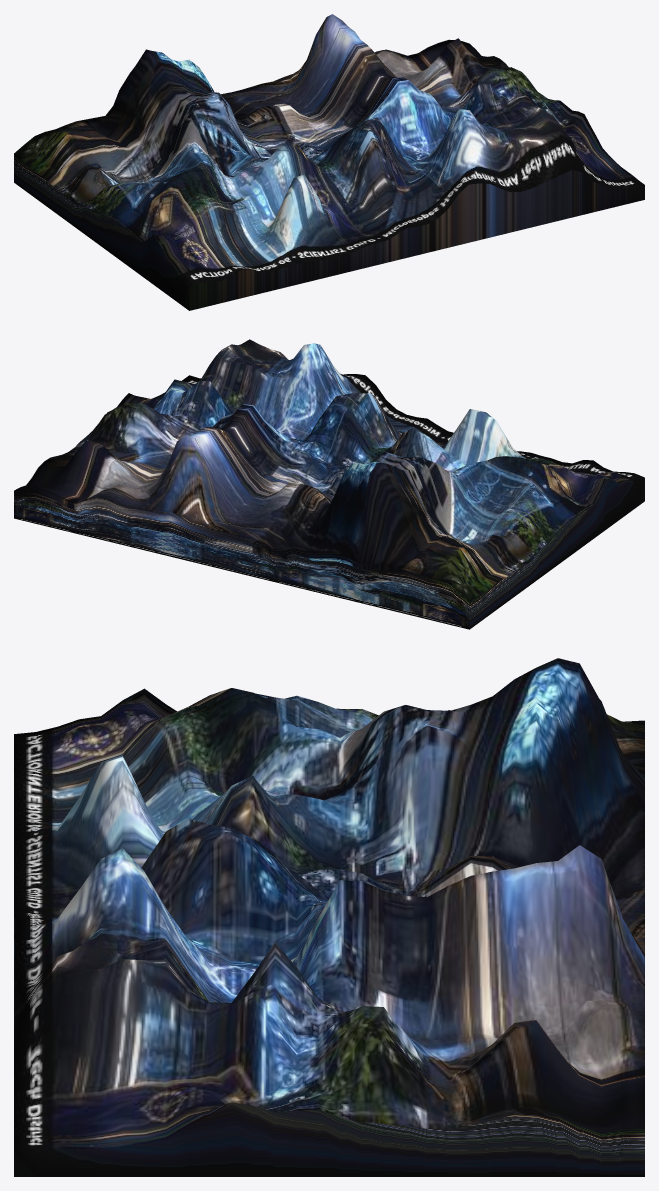
The model's file is FACTION_INT_06_Scientist_Guild.glb.
The picture shows the model from 3 angles, top to bottom: view 1: azimuth 30°, elevation 25°; view 2: azimuth 150°, elevation 25°; view 3: azimuth 270°, elevation 25°; orthographic projection. The views are drawn at different scales.
Visible parts, largest first — view 1: FACTION_INT_06_Scientist_Guild; view 2: FACTION_INT_06_Scientist_Guild; view 3: FACTION_INT_06_Scientist_Guild.
Boxes of the visible parts, <box> form: FACTION_INT_06_Scientist_Guild: <box>14,14,644,310</box>; FACTION_INT_06_Scientist_Guild: <box>14,339,644,629</box>; FACTION_INT_06_Scientist_Guild: <box>14,658,644,1176</box>.
Size of the model in its own units: 2 by 0.51 by 1.33.
1 material, 1 textured.
